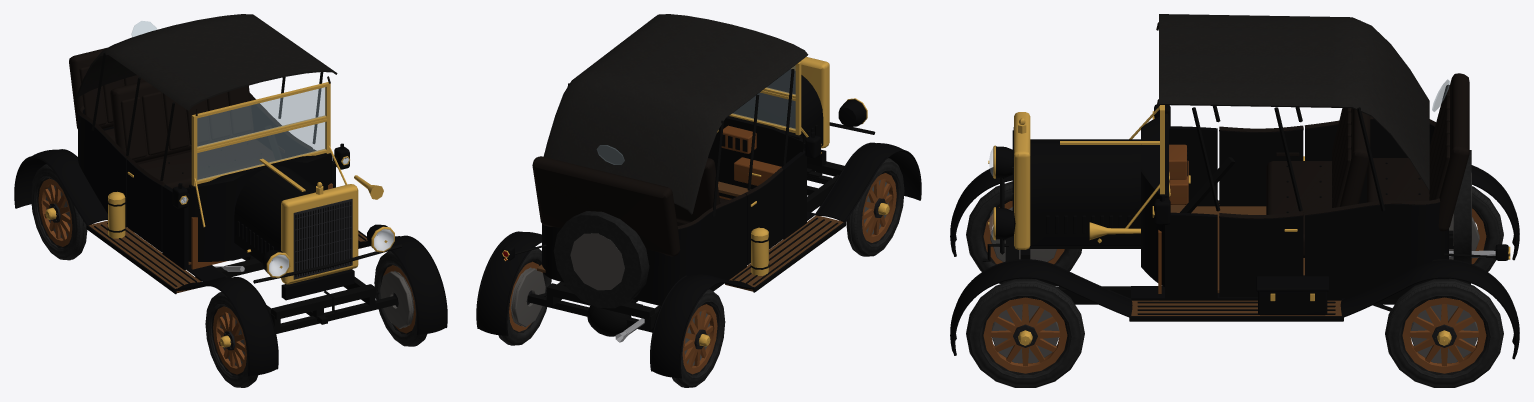
The model's file is runabout_t_lod2.glb.
3 views of the same model, side by side, from view 1: azimuth 30°, elevation 25°; view 2: azimuth 150°, elevation 25°; view 3: azimuth 270°, elevation 25° (orthographic). The views are drawn at different scales.
Parts seen in each view (by area): view 1: runabout_t, top, windscreen_upper, hood_R, wheel_RR, wheel_FR, wheel_FL, door_R, seat_rear, door_L, hood_L; view 2: runabout_t, top, seat_rear, spare_wheel, wheel_FR, wheel_RR, wheel_RL, hood_R, door_R, dash_glovebox, windscreen_upper; view 3: runabout_t, top, hood_L, wheel_FL, wheel_RL, seat_rear, door_L, door_R, wheel_FR, wheel_RR, spare_wheel, dash_glovebox.
Boxes of the visible parts, x1,y1,x2,y2 form: runabout_t: [14, 81, 447, 376]; top: [75, 14, 337, 181]; windscreen_upper: [197, 83, 326, 150]; hood_R: [234, 166, 307, 262]; wheel_RR: [31, 164, 87, 260]; wheel_FR: [205, 292, 258, 387]; wheel_FL: [374, 251, 427, 346]; door_R: [126, 156, 165, 252]; seat_rear: [69, 47, 191, 164]; door_L: [274, 120, 312, 158]; hood_L: [273, 165, 315, 194]; runabout_t: [476, 57, 921, 378]; top: [543, 14, 808, 216]; seat_rear: [532, 156, 680, 256]; spare_wheel: [553, 211, 649, 308]; wheel_FR: [846, 158, 904, 256]; wheel_RR: [672, 289, 725, 387]; wheel_RL: [498, 247, 551, 345]; hood_R: [743, 69, 823, 150]; door_R: [745, 167, 783, 264]; dash_glovebox: [734, 157, 781, 185]; windscreen_upper: [762, 65, 795, 98]; runabout_t: [950, 104, 1519, 359]; top: [1156, 14, 1450, 211]; hood_L: [1030, 143, 1144, 245]; wheel_FL: [966, 279, 1084, 387]; wheel_RL: [1385, 279, 1503, 387]; seat_rear: [1367, 73, 1469, 231]; door_L: [1219, 212, 1303, 297]; door_R: [1219, 125, 1303, 206]; wheel_FR: [966, 181, 1081, 283]; wheel_RR: [1449, 186, 1503, 271]; spare_wheel: [1453, 150, 1471, 263]; dash_glovebox: [1169, 160, 1190, 204].
Size of the model in its own units: 1.67 by 1.94 by 3.45.
29 materials, 6 textured.
